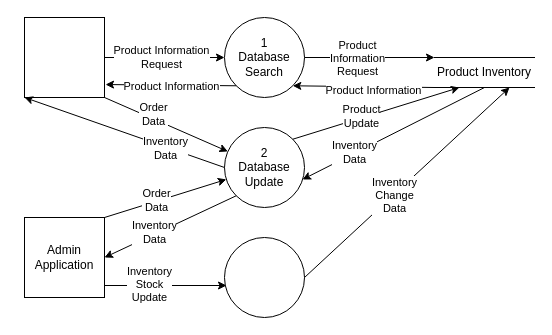
The diagram is 552 pixels wide and 335 high, and some of its shapes have lost their labels. The centre of each missing label's shape, as x and y in pixels:
"3 Inventory Update" belongs at [264,277].
"Order Management System" belongs at [64,57].
